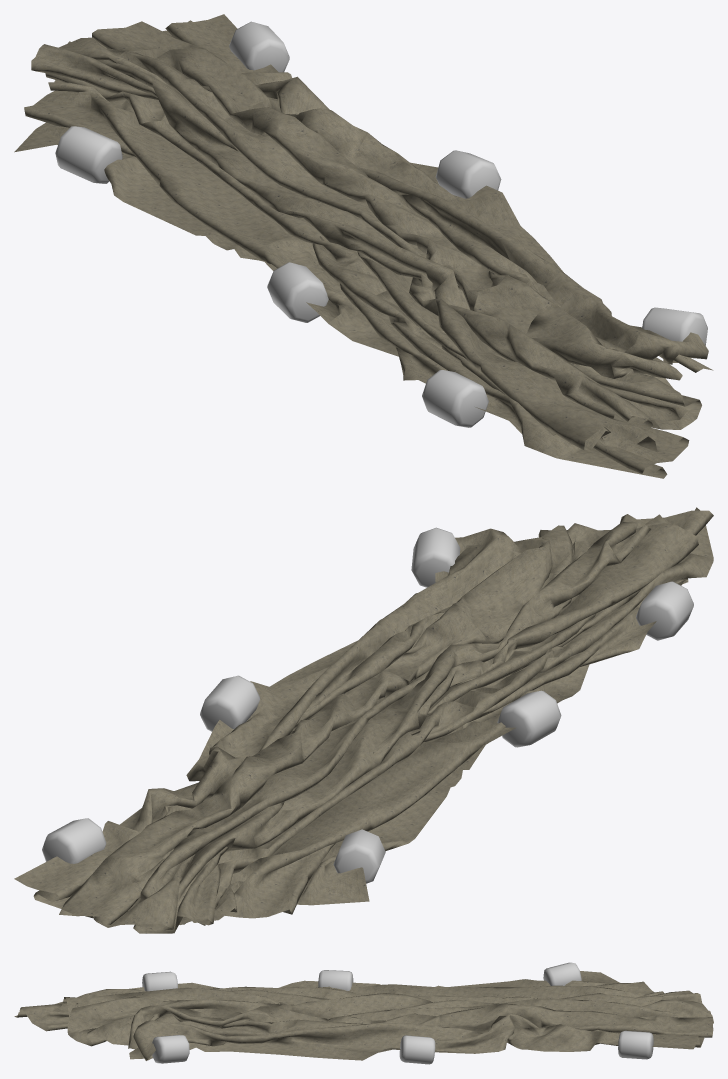
The model's file is SM_Fish_net_7_01.fbx.
The picture shows the model from 3 angles, top to bottom: view 1: azimuth 30°, elevation 25°; view 2: azimuth 150°, elevation 25°; view 3: azimuth 270°, elevation 25°; orthographic projection. The views are drawn at different scales.
Visible parts, largest first — view 1: SM_Fish_net_7_01_LOD0; view 2: SM_Fish_net_7_01_LOD0; view 3: SM_Fish_net_7_01_LOD0.
Boxes of the visible parts, x1=… form: SM_Fish_net_7_01_LOD0: x1=14, y1=14, x2=713, y2=478; SM_Fish_net_7_01_LOD0: x1=14, y1=507, x2=713, y2=933; SM_Fish_net_7_01_LOD0: x1=14, y1=962, x2=713, y2=1064.
Bounding box in the file's own units: 67.12 × 213 × 11.27.
